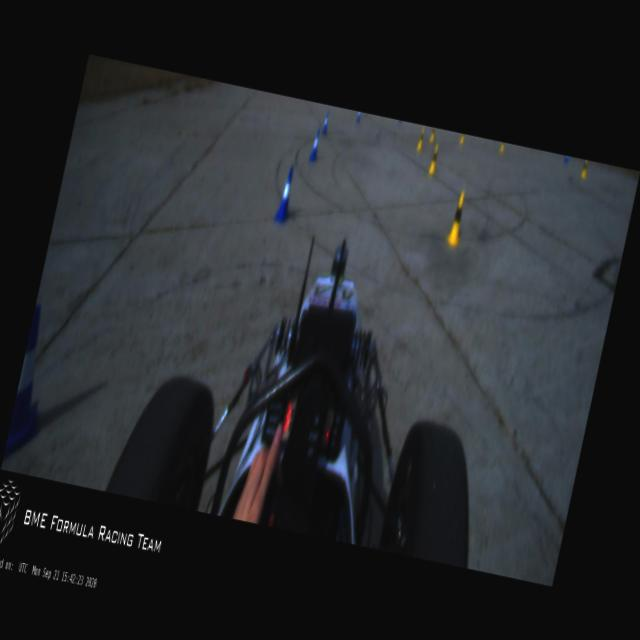blue_cone: (2, 301, 63, 466), (273, 164, 298, 223), (308, 128, 322, 160), (320, 112, 330, 134), (356, 111, 360, 122)
yellow_cone: (444, 190, 471, 248), (427, 142, 441, 176), (578, 158, 590, 180), (415, 128, 425, 152), (428, 128, 436, 144), (459, 132, 465, 144), (499, 142, 505, 154)
